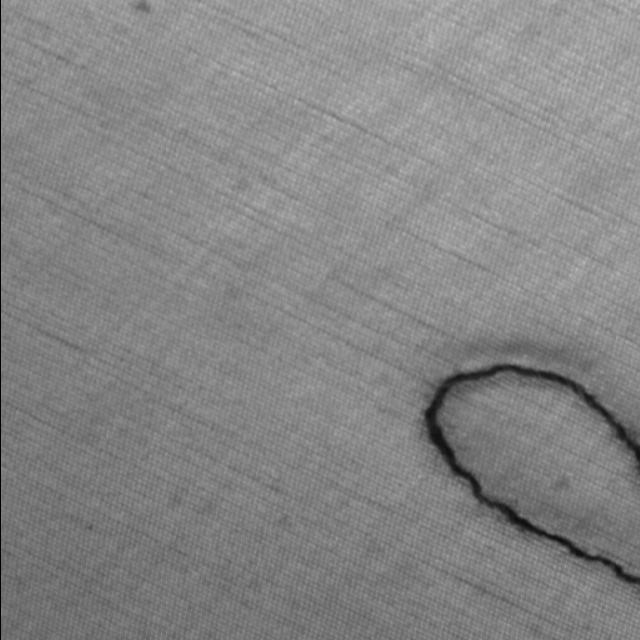Thread: (417, 360, 640, 588)
